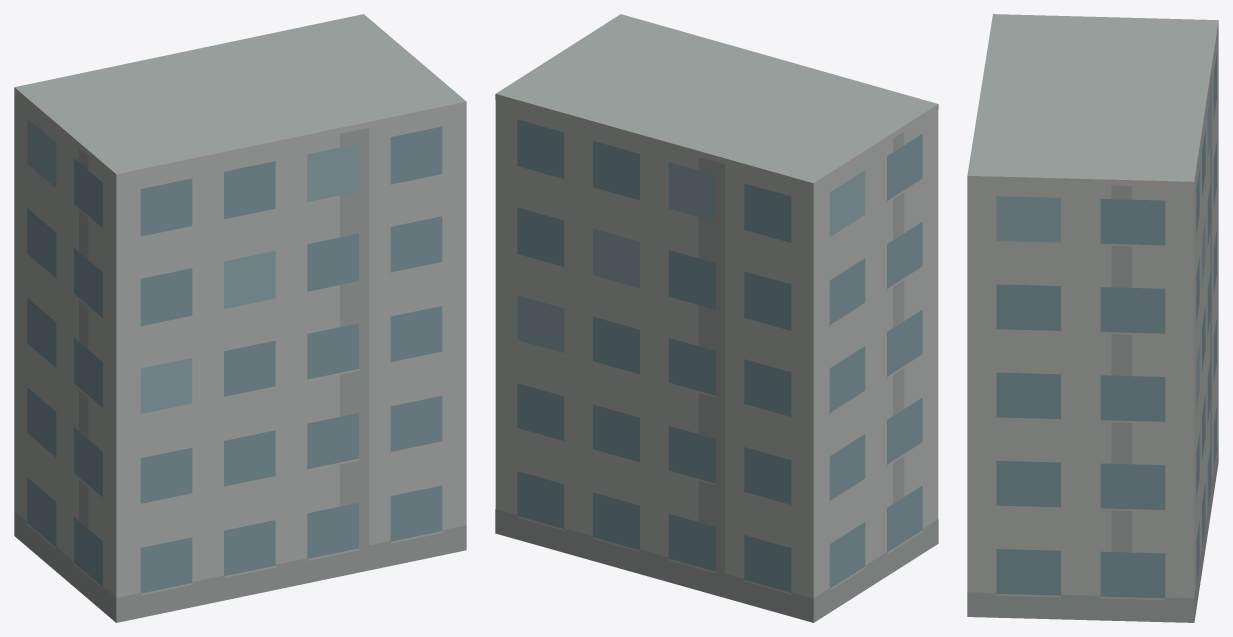
File: survey-upis-32480337.glb
The picture shows the model from 3 angles, left to right: view 1: azimuth 30°, elevation 25°; view 2: azimuth 150°, elevation 25°; view 3: azimuth 270°, elevation 25°; orthographic projection. The views are drawn at different scales.
Parts seen in each view (by area): view 1: survey-upis-32480337.tmp; view 2: survey-upis-32480337.tmp; view 3: survey-upis-32480337.tmp.
Boxes of the visible parts, x1,y1,x2,y2 form: survey-upis-32480337.tmp: (14,14,466,622); survey-upis-32480337.tmp: (495,14,938,622); survey-upis-32480337.tmp: (967,14,1218,622).
Bounding box in the file's own units: 14.94 × 18.3 × 9.46.
